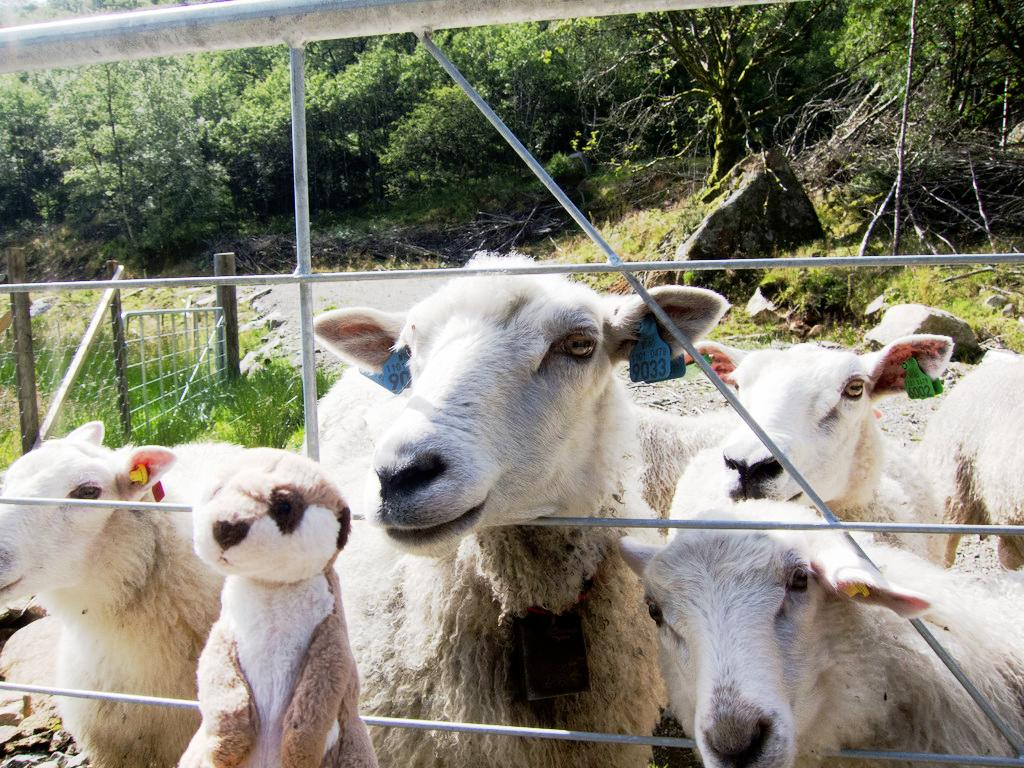Sheep: (320, 242, 660, 751), (650, 504, 1012, 760), (0, 410, 205, 720), (683, 333, 923, 551)
